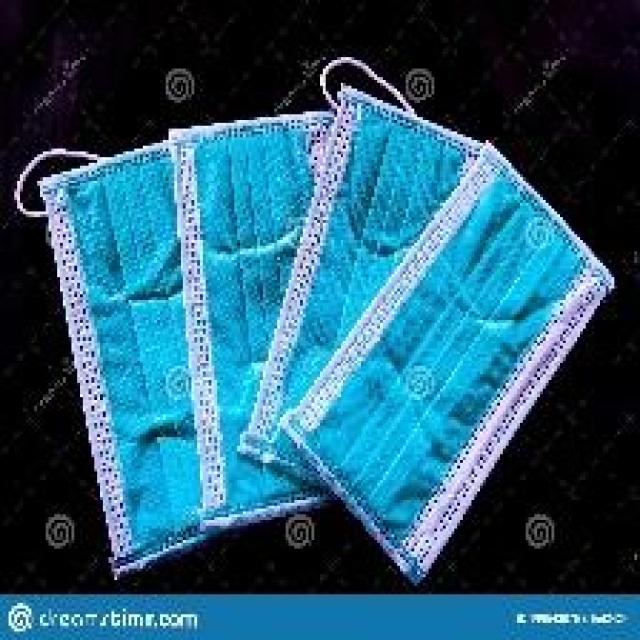Mask: (31, 50, 590, 576)
